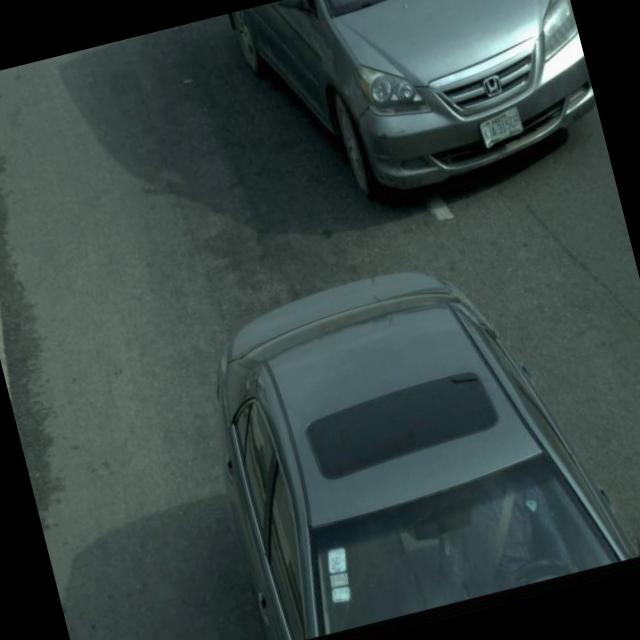person_with_seatbelt: (420, 454, 590, 616)
